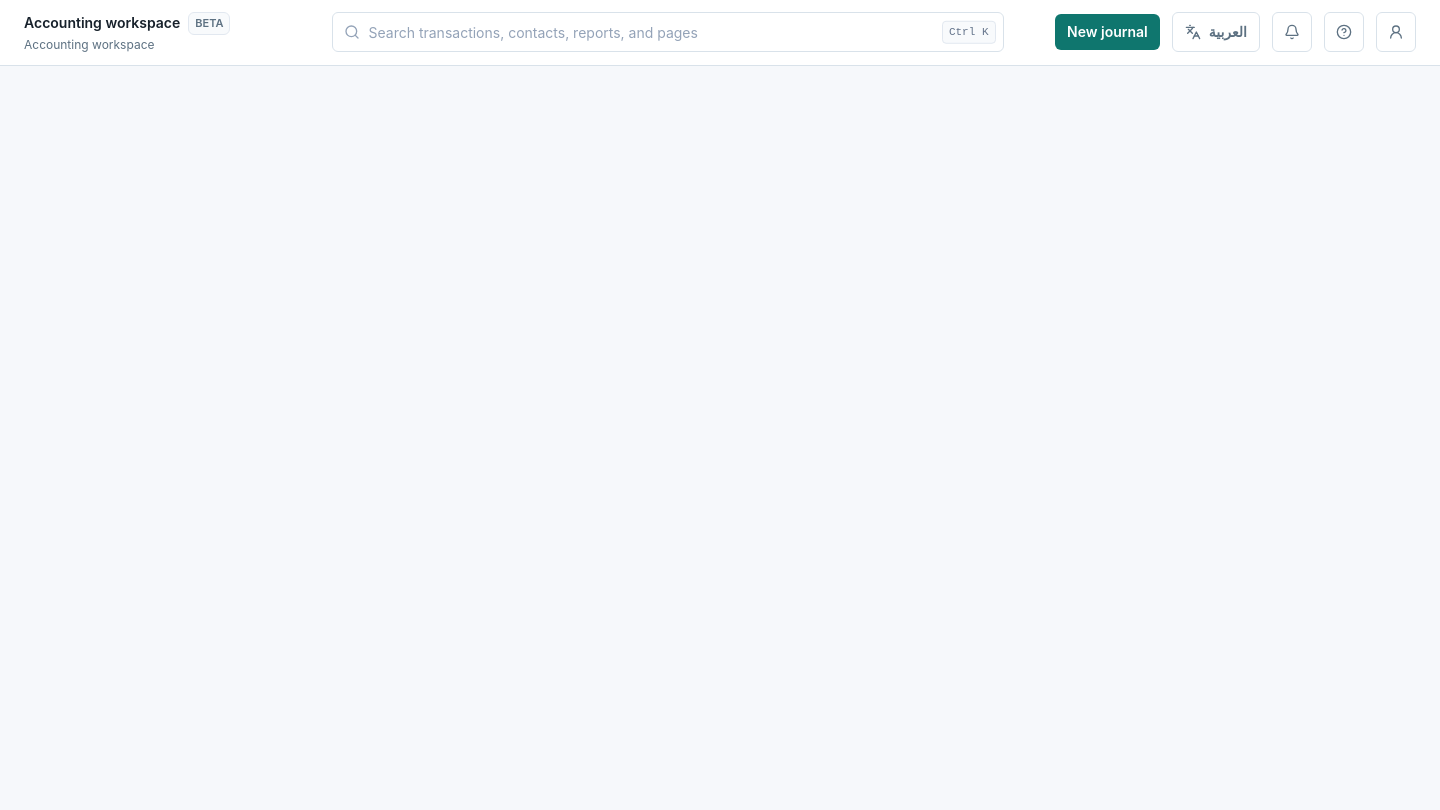
Test: Topbar action menus › shows a useful empty notification state
Click the button named "Notifications".
click(1292, 32)  # box 1272,12 -> 1312,52
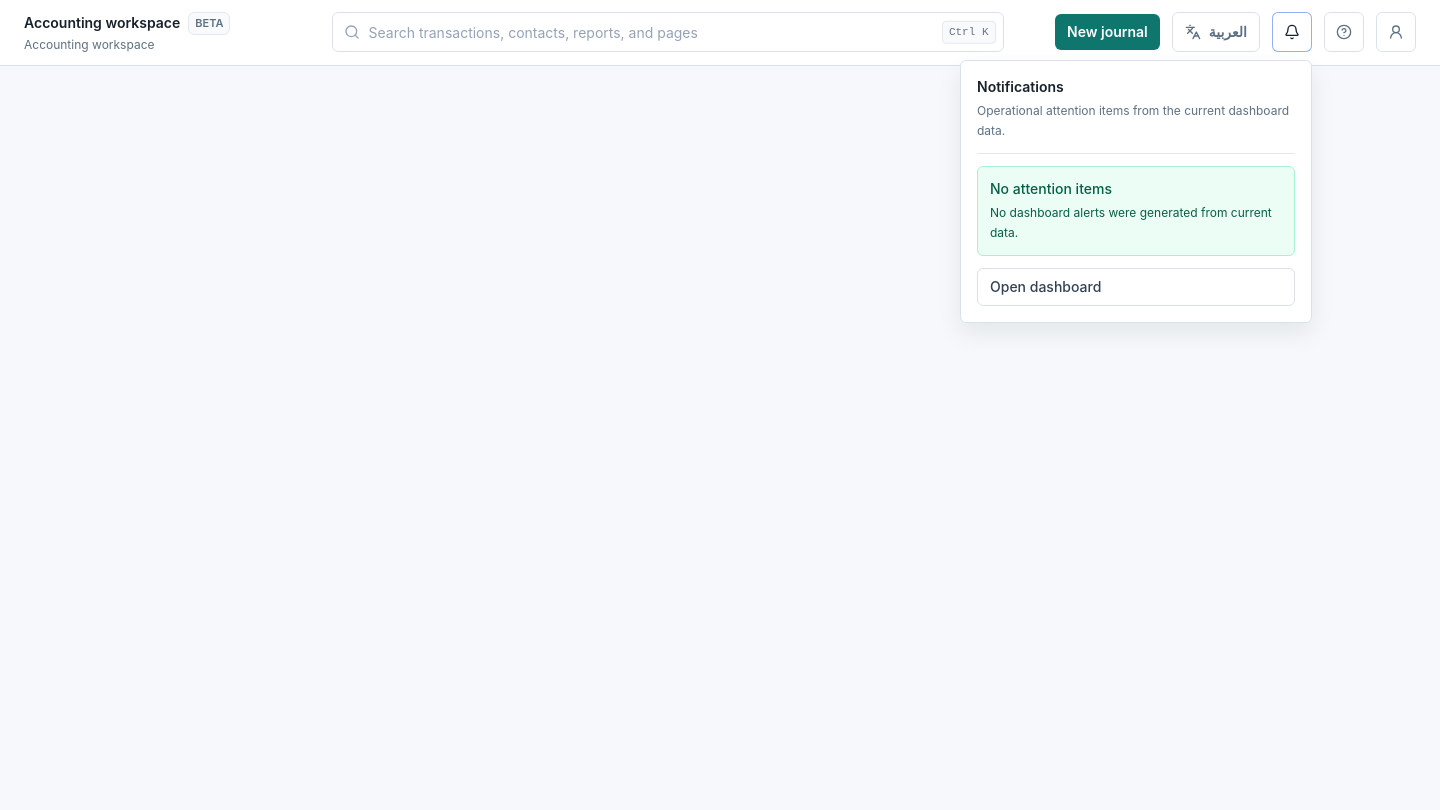
Expected: the text "No attention items" is shown, 990,180 -> 1112,197
Expected: the text "No dashboard alerts were generated from current data." is shown, 990,203 -> 1282,243
